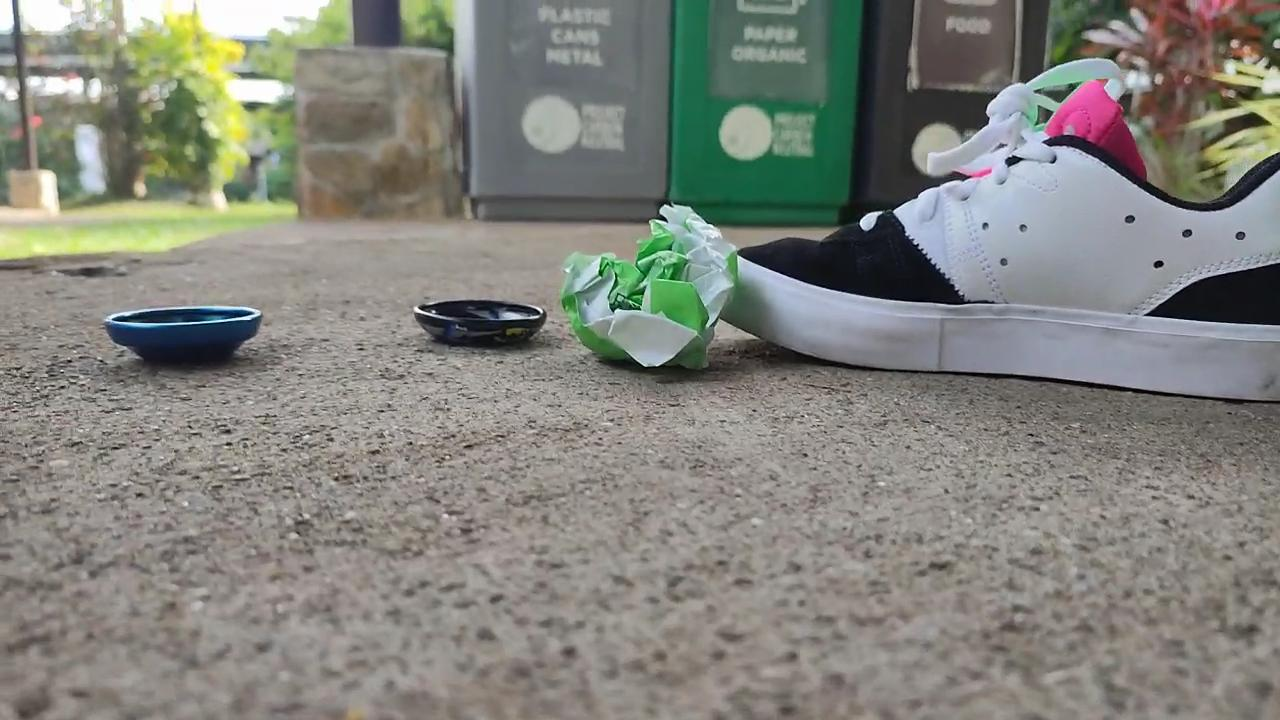Paper: (539, 194, 745, 392)
